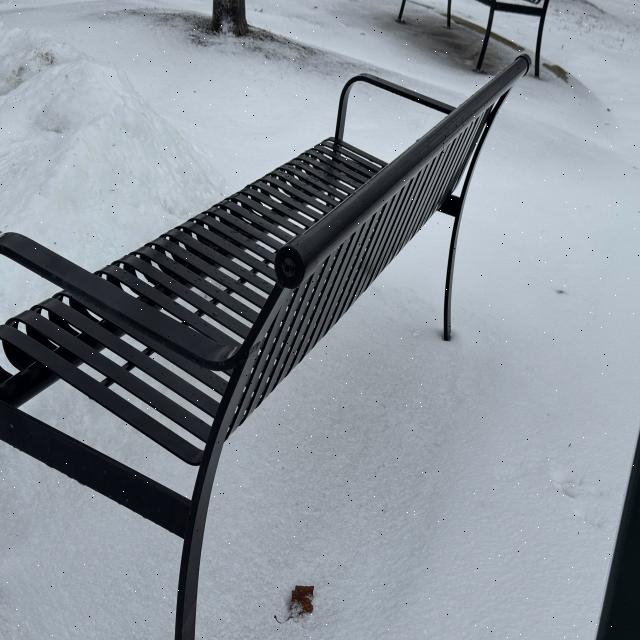Bench: (3, 47, 542, 640)
